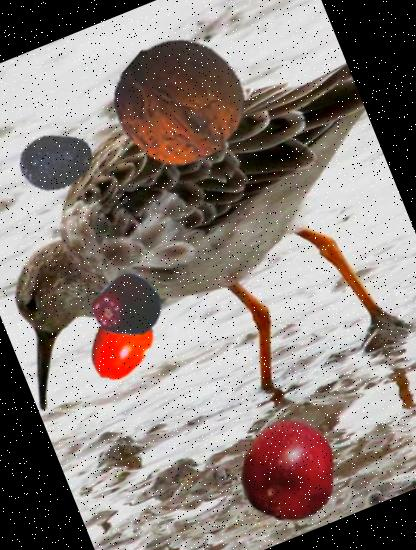Apple: (82, 262, 172, 352)
Avocado: (11, 114, 104, 208)
Kaki: (73, 299, 167, 393)
Nectarine: (222, 404, 356, 536)
Walnut: (98, 20, 262, 185)
